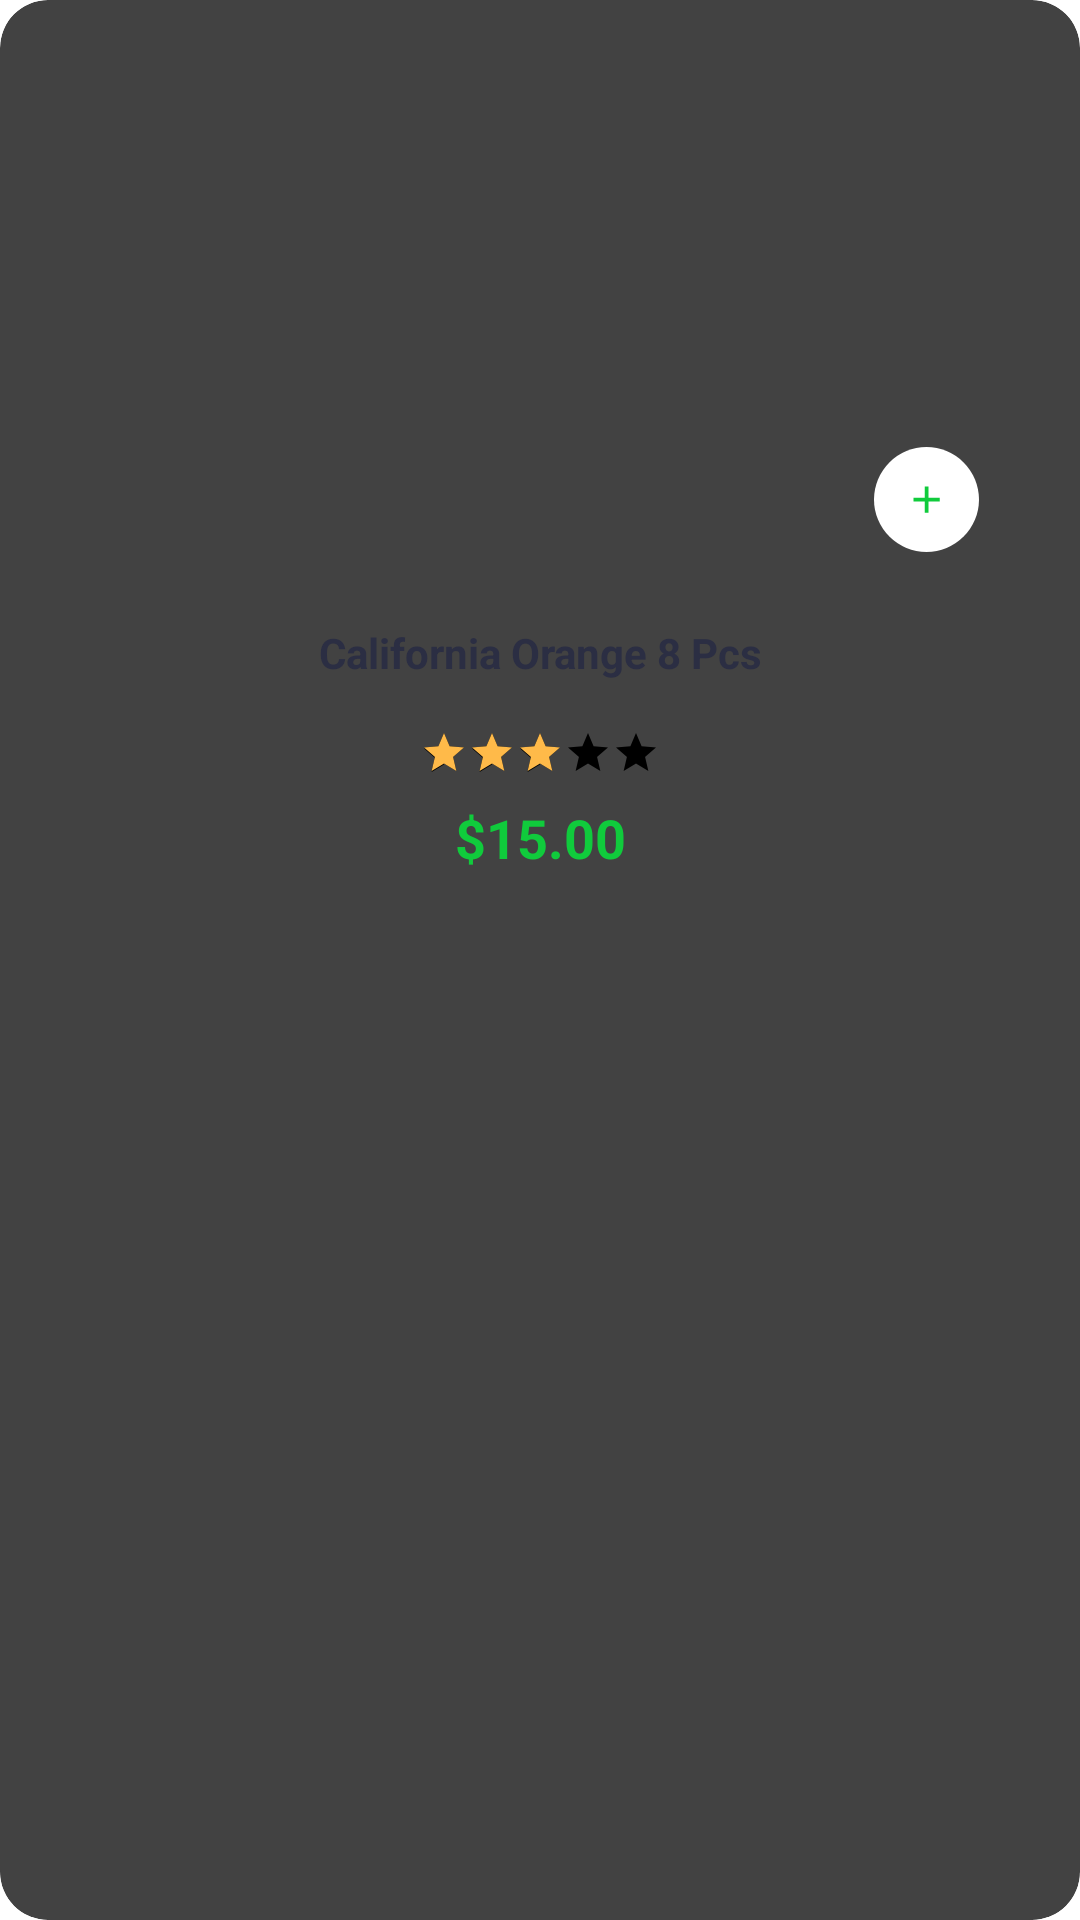

Named icons in this screenshot (1080 x 1920) and their bounding boxes, (x1,y1,x2,y2):
add: (874,447,979,552)
